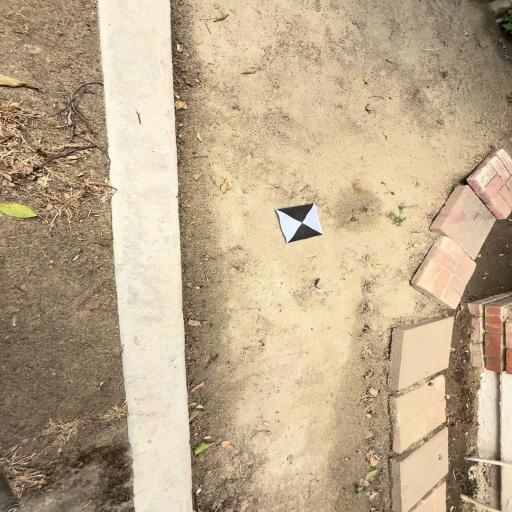target: (277, 204, 323, 243)
